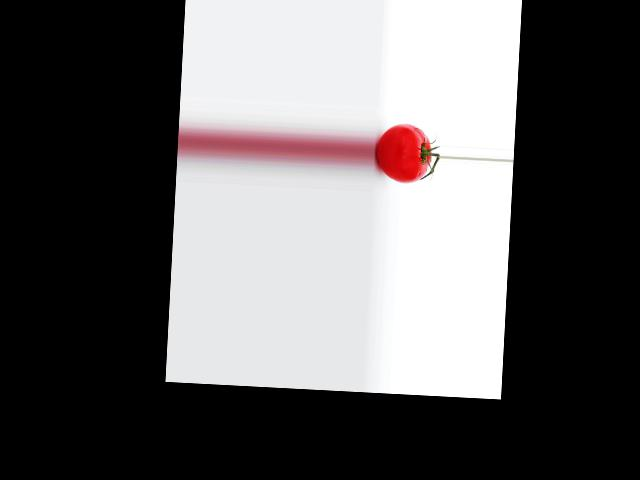tomato: (374, 121, 432, 183)
